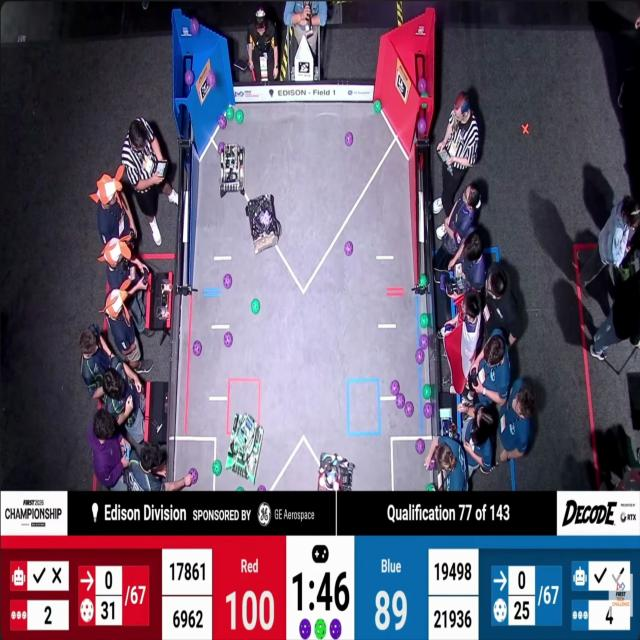artifact_green: (315, 619, 326, 639), (417, 116, 427, 135), (419, 312, 429, 328), (417, 77, 427, 93), (213, 460, 222, 476), (421, 92, 429, 109), (225, 107, 235, 120), (423, 384, 431, 399), (252, 299, 260, 314), (374, 99, 382, 114), (236, 110, 244, 124), (420, 274, 427, 287), (427, 483, 435, 491), (421, 92, 428, 98), (422, 104, 427, 110), (237, 487, 244, 491)
artifact_purple: (299, 619, 311, 639), (330, 619, 341, 639), (190, 17, 200, 36), (223, 331, 233, 348), (415, 348, 425, 364), (423, 403, 433, 418), (185, 70, 194, 86), (417, 77, 426, 93), (189, 468, 198, 484), (440, 274, 448, 292), (391, 380, 400, 396), (418, 118, 426, 135), (207, 71, 215, 88), (416, 439, 425, 454), (396, 393, 405, 408), (404, 402, 413, 417), (420, 334, 428, 350), (218, 115, 227, 129), (193, 341, 202, 355), (224, 274, 232, 289), (345, 132, 353, 147), (345, 242, 353, 256), (218, 142, 224, 154), (432, 336, 437, 348), (429, 460, 435, 470), (258, 485, 266, 491)
